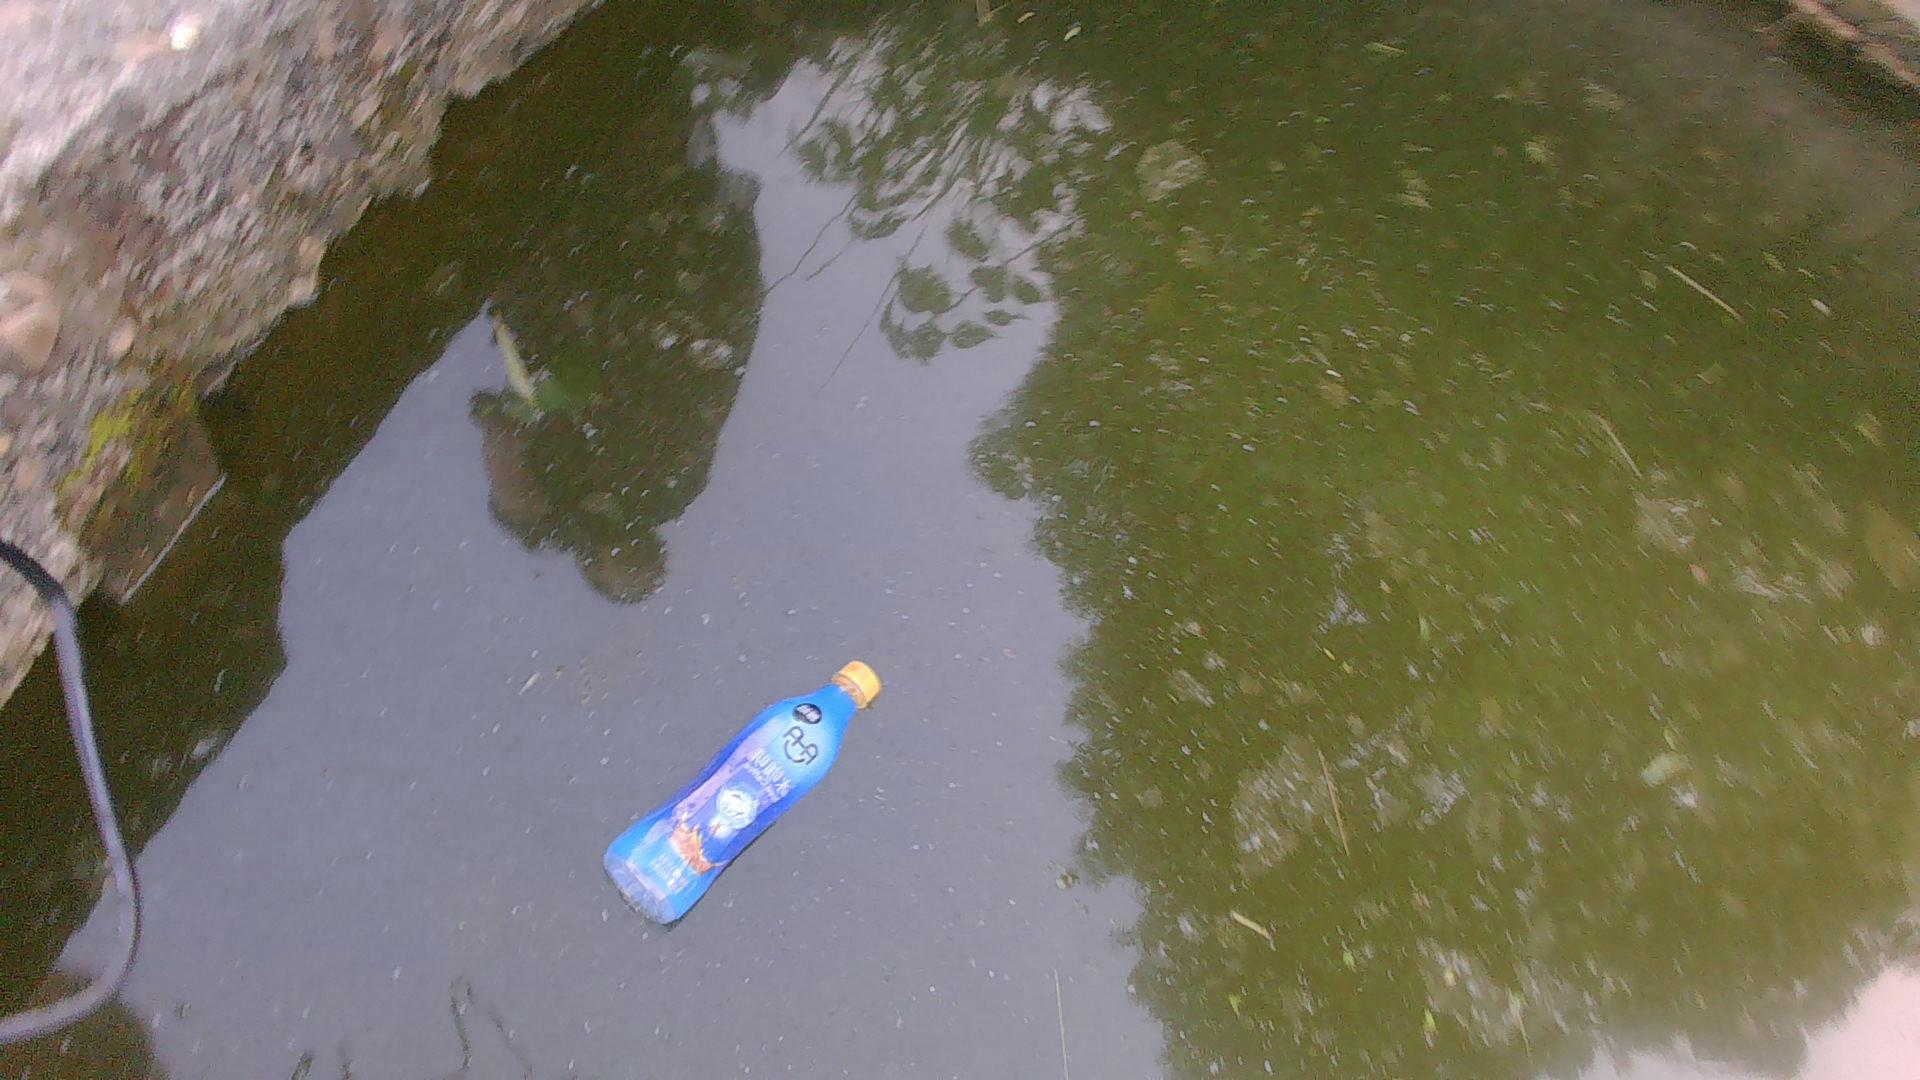Plastic: (593, 653, 885, 935)
